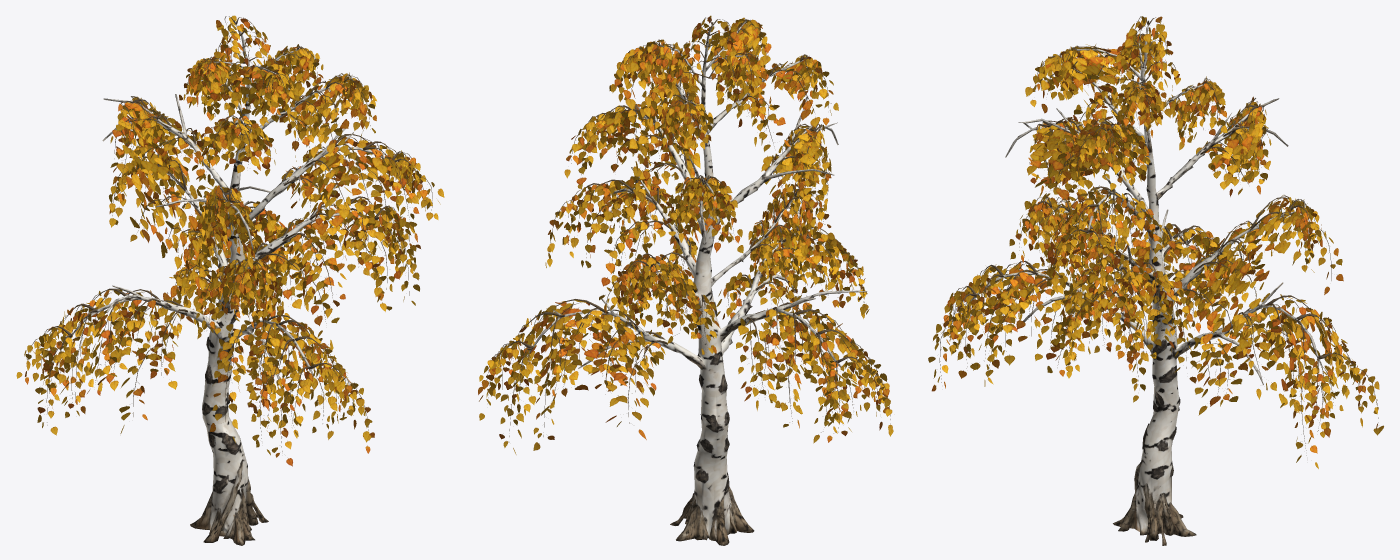
Rendered from autumn_birch_web.glb.
3 renders of one model, left to right at view 1: azimuth 30°, elevation 25°; view 2: azimuth 150°, elevation 25°; view 3: azimuth 270°, elevation 25°, orthographic.
Visible parts, largest first — view 1: Autumn leaf cards, Watertight low-poly birch trunk, Simplified twigs and petioles; view 2: Autumn leaf cards, Watertight low-poly birch trunk, Simplified twigs and petioles; view 3: Autumn leaf cards, Watertight low-poly birch trunk, Simplified twigs and petioles.
Boxes of the visible parts, x1,y1,x2,y2 form: Autumn leaf cards: (16, 15, 444, 466); Watertight low-poly birch trunk: (69, 21, 384, 545); Simplified twigs and petioles: (26, 16, 432, 451); Autumn leaf cards: (478, 15, 893, 454); Watertight low-poly birch trunk: (526, 21, 867, 545); Simplified twigs and petioles: (487, 17, 890, 442); Autumn leaf cards: (928, 16, 1383, 468); Watertight low-poly birch trunk: (970, 21, 1322, 545); Simplified twigs and petioles: (939, 16, 1378, 455).
Size of the model in its own units: 7.97 by 10.59 by 8.66.
Materials: 3 (2 with a texture image).
